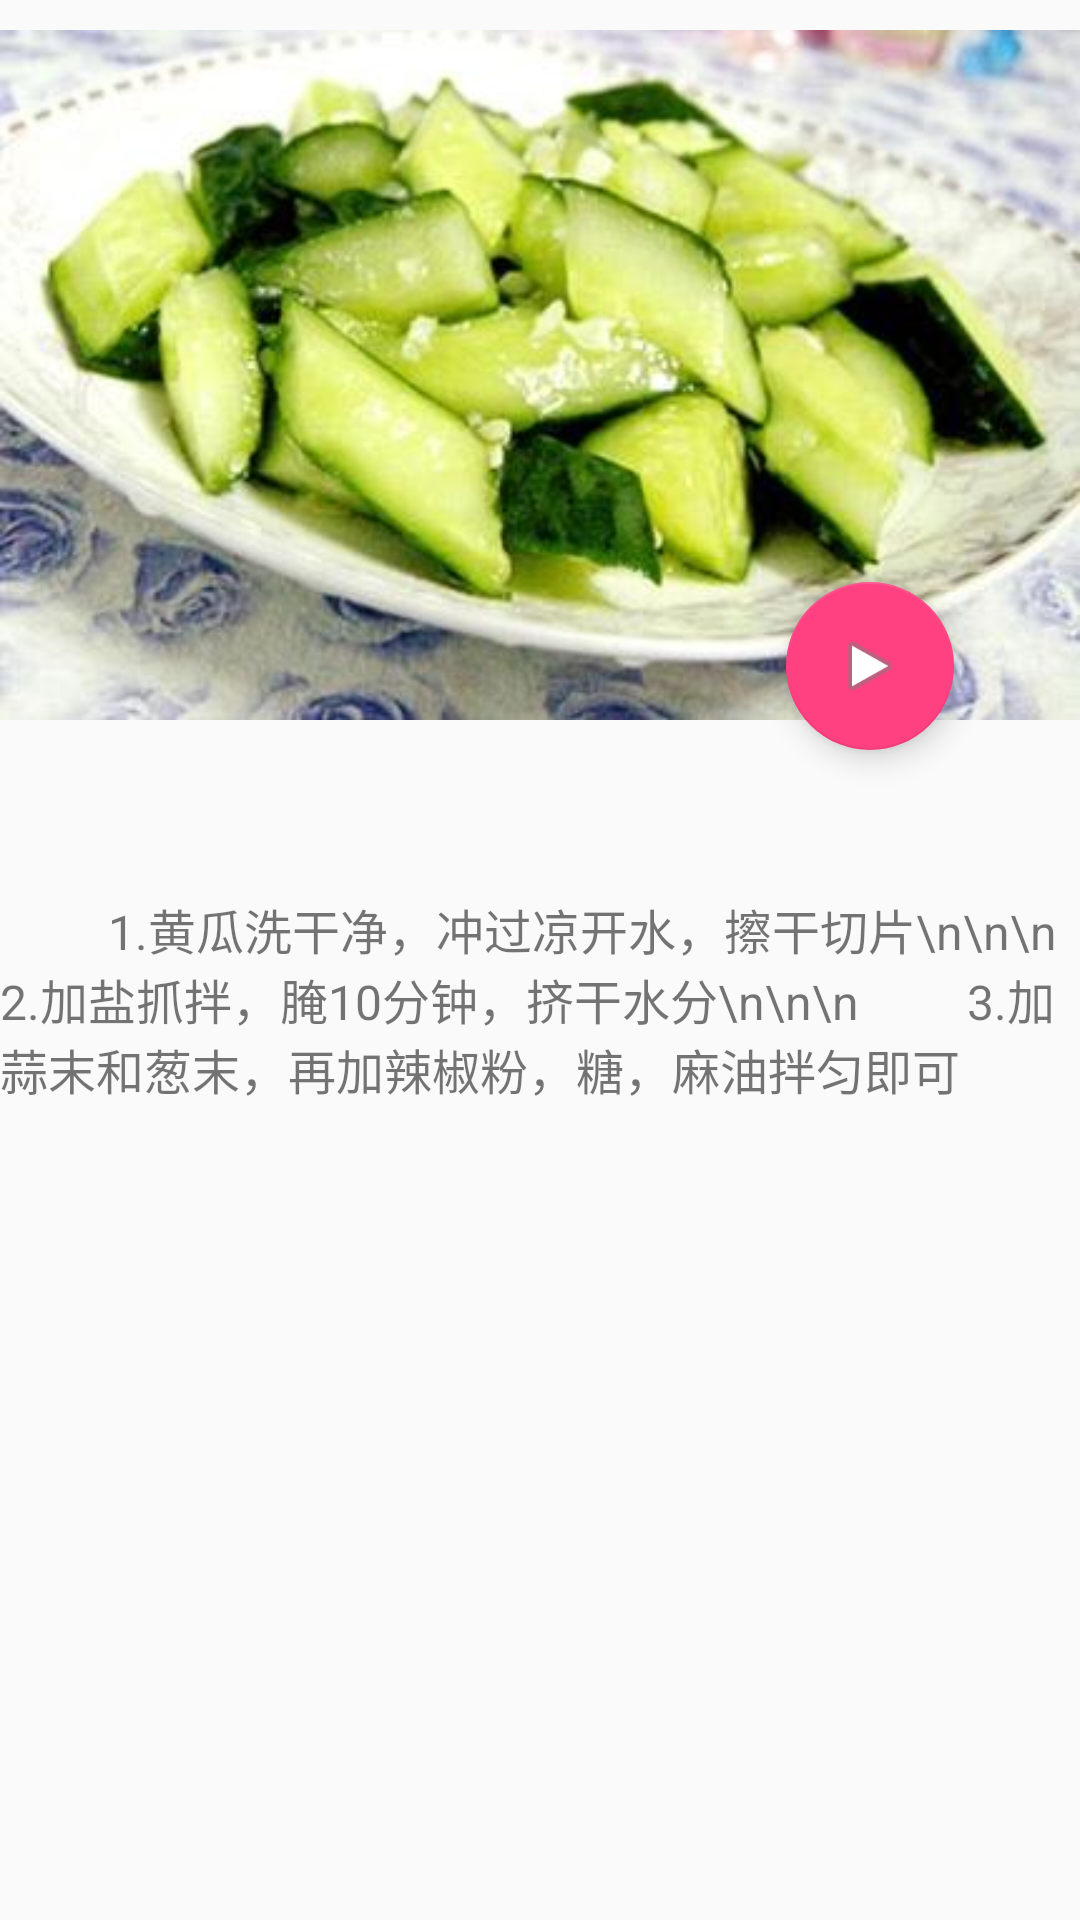

Screen size 1080*1920. Icon name, then its center in pixels as [x,y]:
play: [870,666]
